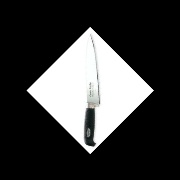k1: (84, 33, 101, 116)
